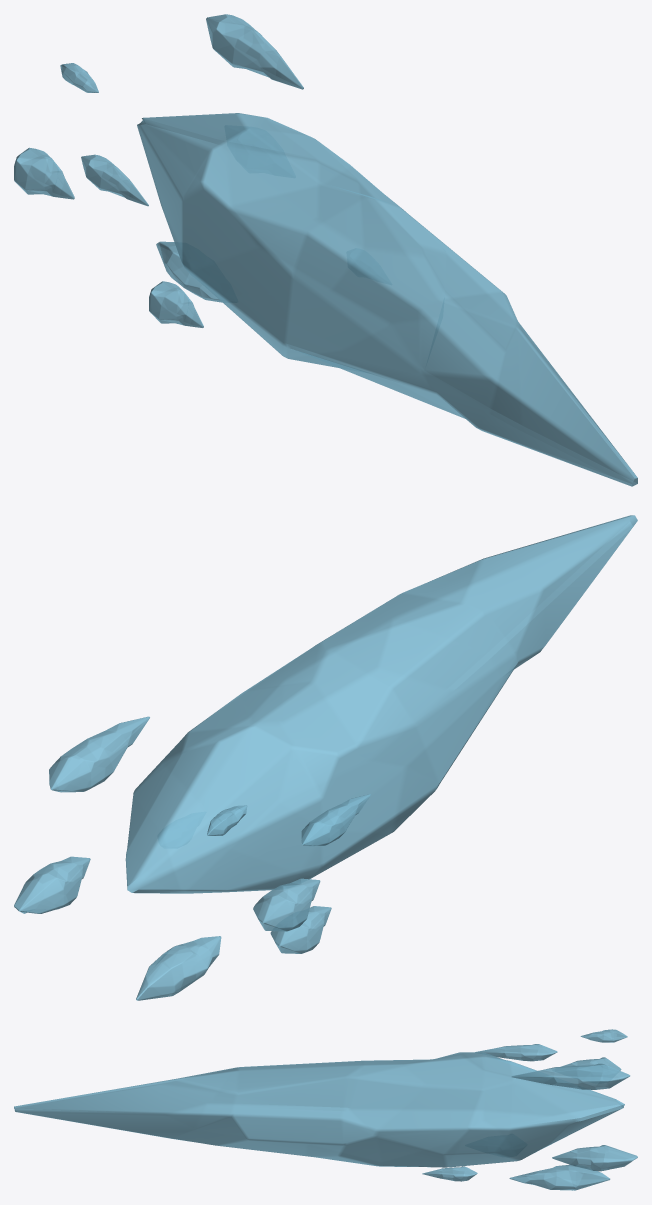
Rendered from ice_attack2.fbx.
3 views of the same model, one above another, from view 1: azimuth 30°, elevation 25°; view 2: azimuth 150°, elevation 25°; view 3: azimuth 270°, elevation 25° (orthographic). The views are drawn at different scales.
Parts seen in each view (by area): view 1: pCone1, pCone2, pCone3, pCone8, pCone9, pCone4, pCone6; view 2: pCone1, pCone2, pCone4, pCone5, pCone3, pCone9, pCone8, pCone6; view 3: pCone1, pCone2, pCone4, pCone5, pCone9, pCone7, pCone6, pCone3.
Part boxes in pixels (<box>): pCone1: <box>137,113,637,486</box>; pCone2: <box>206,14,303,89</box>; pCone3: <box>14,147,74,199</box>; pCone8: <box>149,281,203,327</box>; pCone9: <box>81,154,148,206</box>; pCone4: <box>156,241,222,302</box>; pCone6: <box>60,63,98,92</box>; pCone1: <box>125,515,637,893</box>; pCone2: <box>49,716,149,792</box>; pCone4: <box>136,936,221,1000</box>; pCone5: <box>14,856,90,913</box>; pCone3: <box>253,878,320,931</box>; pCone9: <box>301,794,371,846</box>; pCone8: <box>270,906,331,953</box>; pCone6: <box>207,805,247,835</box>; pCone1: <box>14,1052,624,1167</box>; pCone2: <box>511,1063,630,1089</box>; pCone4: <box>509,1164,610,1190</box>; pCone5: <box>552,1145,637,1171</box>; pCone9: <box>475,1044,557,1061</box>; pCone7: <box>422,1166,477,1181</box>; pCone6: <box>580,1029,627,1042</box>; pCone3: <box>561,1057,621,1070</box>.
Size of the model in its own units: 16.8 by 14.45 by 56.04.
